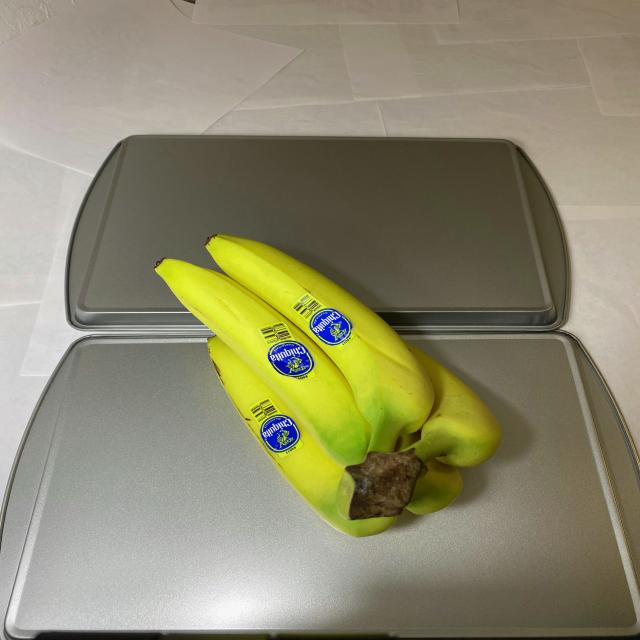banana: (156, 230, 505, 539)
